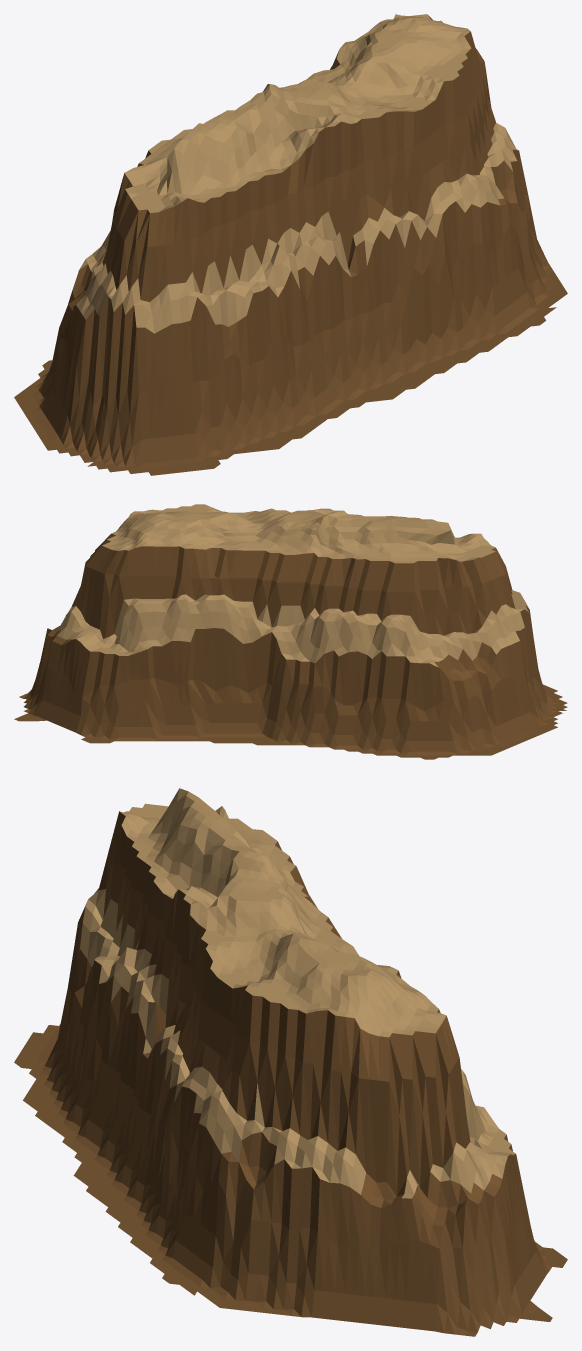
3 views of the same model, one above another, from view 1: azimuth 30°, elevation 25°; view 2: azimuth 150°, elevation 25°; view 3: azimuth 270°, elevation 25° (orthographic). The views are drawn at different scales.
Visible parts, largest first — view 1: Mountain3; view 2: Mountain3; view 3: Mountain3.
Part boxes in pixels (left/top/right/bottom): Mountain3: left=14, top=14, right=567, bottom=475; Mountain3: left=14, top=504, right=567, bottom=759; Mountain3: left=14, top=788, right=567, bottom=1336.
Size of the model in its own units: 698 by 293 by 491.
